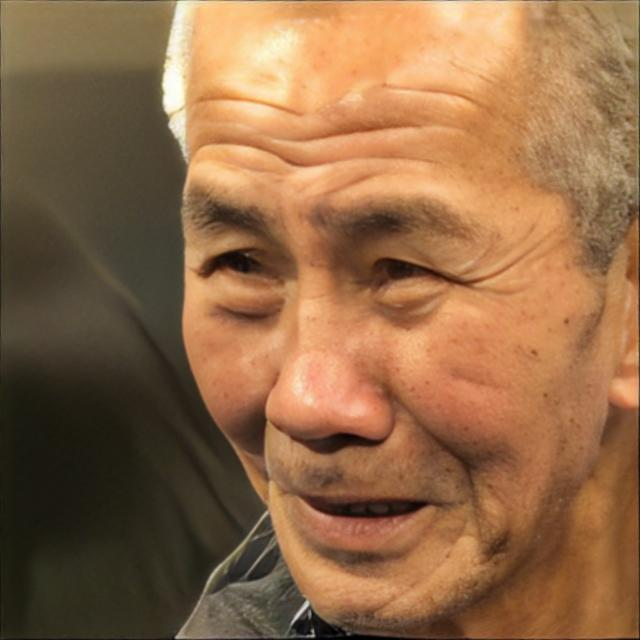sad: (172, 31, 596, 629)
